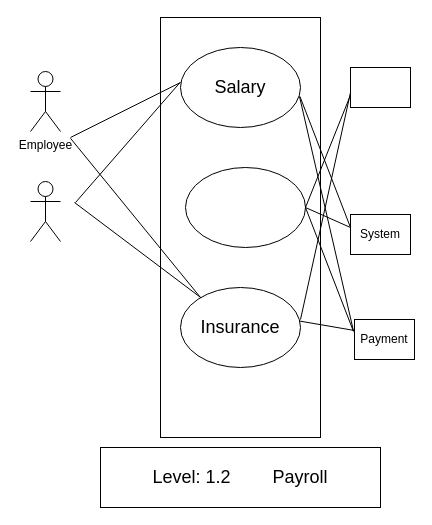
This 432x525 diagram has some shape labels left out. The shapes that lost their labels are listed below. From the top down, each one's centre as x and y in pixels, then its label:
(380,87): HR
(45,211): Supervisor
(245,207): Bonus
